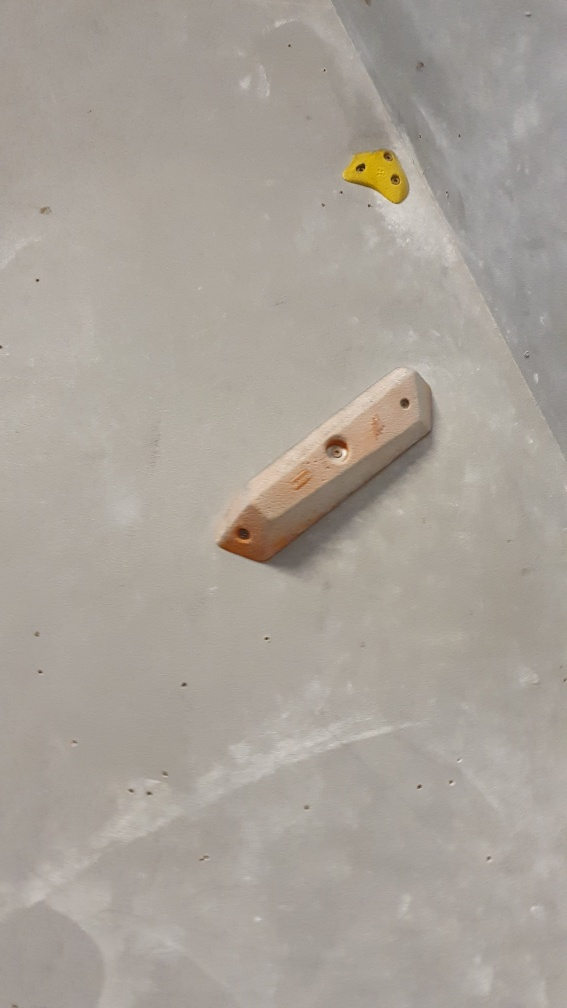Pinch: (210, 362, 442, 568)
